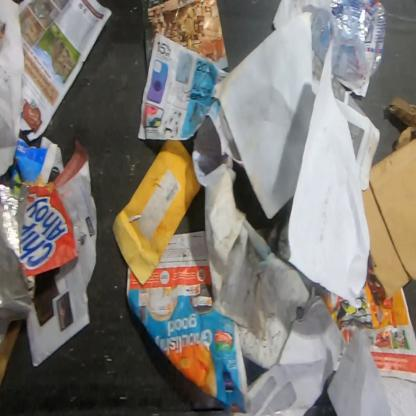cardboard: (360, 94, 415, 301), (16, 172, 80, 278), (0, 320, 23, 389)
soft_plastic: (301, 0, 390, 91), (0, 183, 37, 348)
